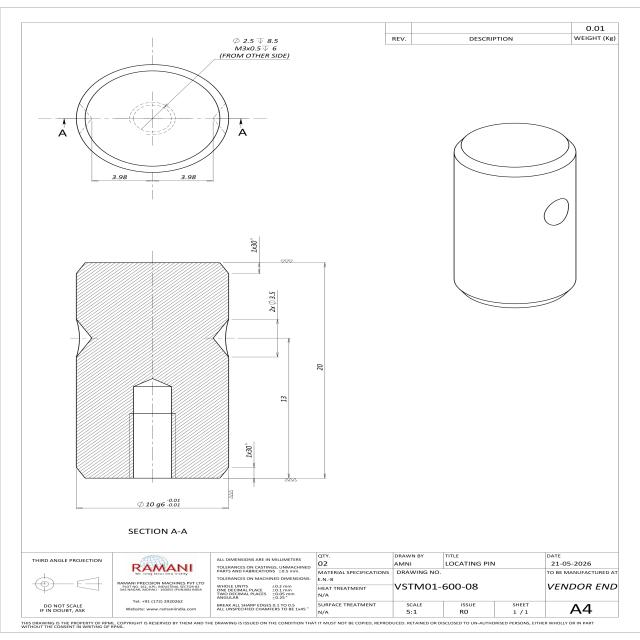dimension: (233, 36, 280, 52), (136, 498, 182, 508), (267, 290, 277, 313), (249, 237, 258, 253), (244, 443, 253, 458), (110, 173, 128, 180), (179, 174, 198, 180), (315, 362, 324, 372), (280, 395, 288, 403)
